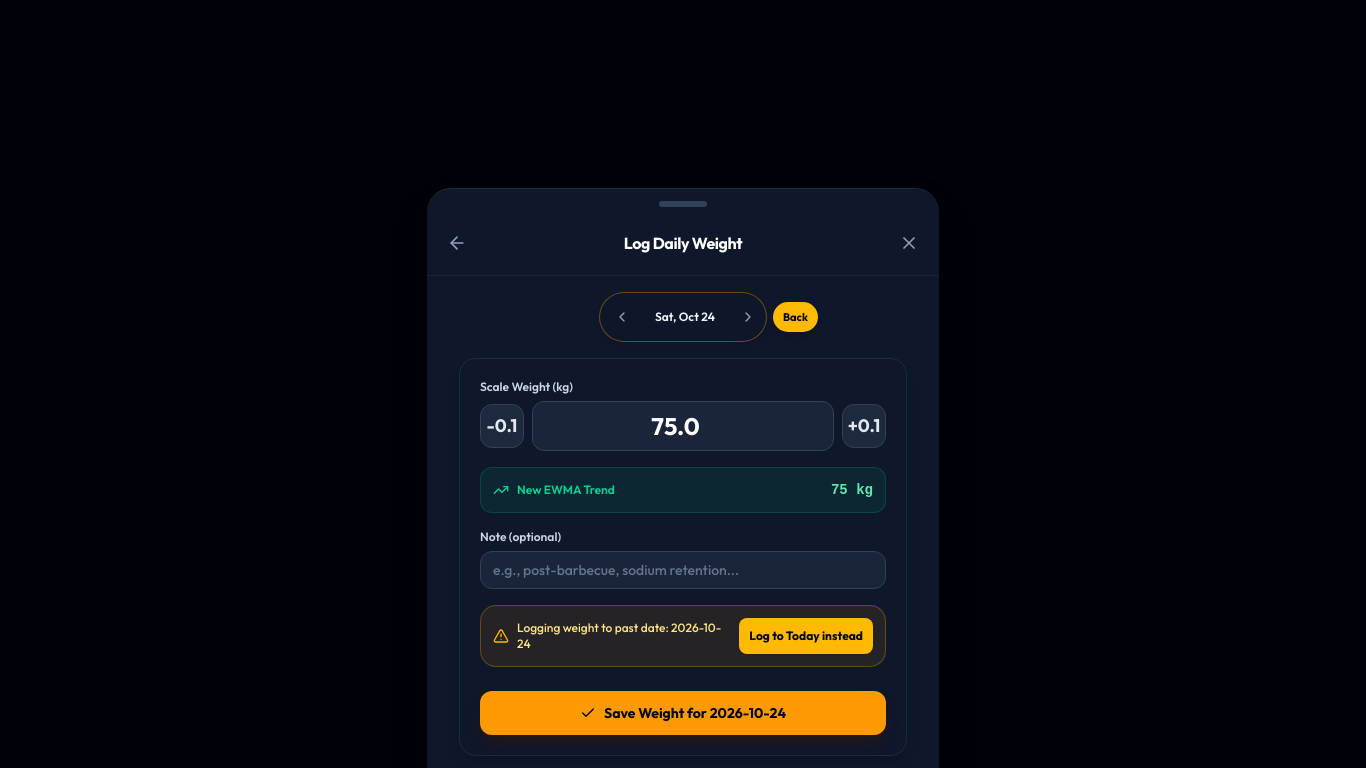
Test: Past Date Logging Guards & Today Pill UX › 4. WeightQuickLogModal Overwrite & Past Date Warning › clicking Log to Today instead switches weight modal date to today and clears warning
Expected: the element with test id "banner-past-weight-warning" is shown, [480, 605, 886, 667]
What coordinates should you click on to do the following:
click the button with test id "btn-switch-weight-today"
I would click on:
 (806, 636)
Its box is [739, 618, 873, 654].
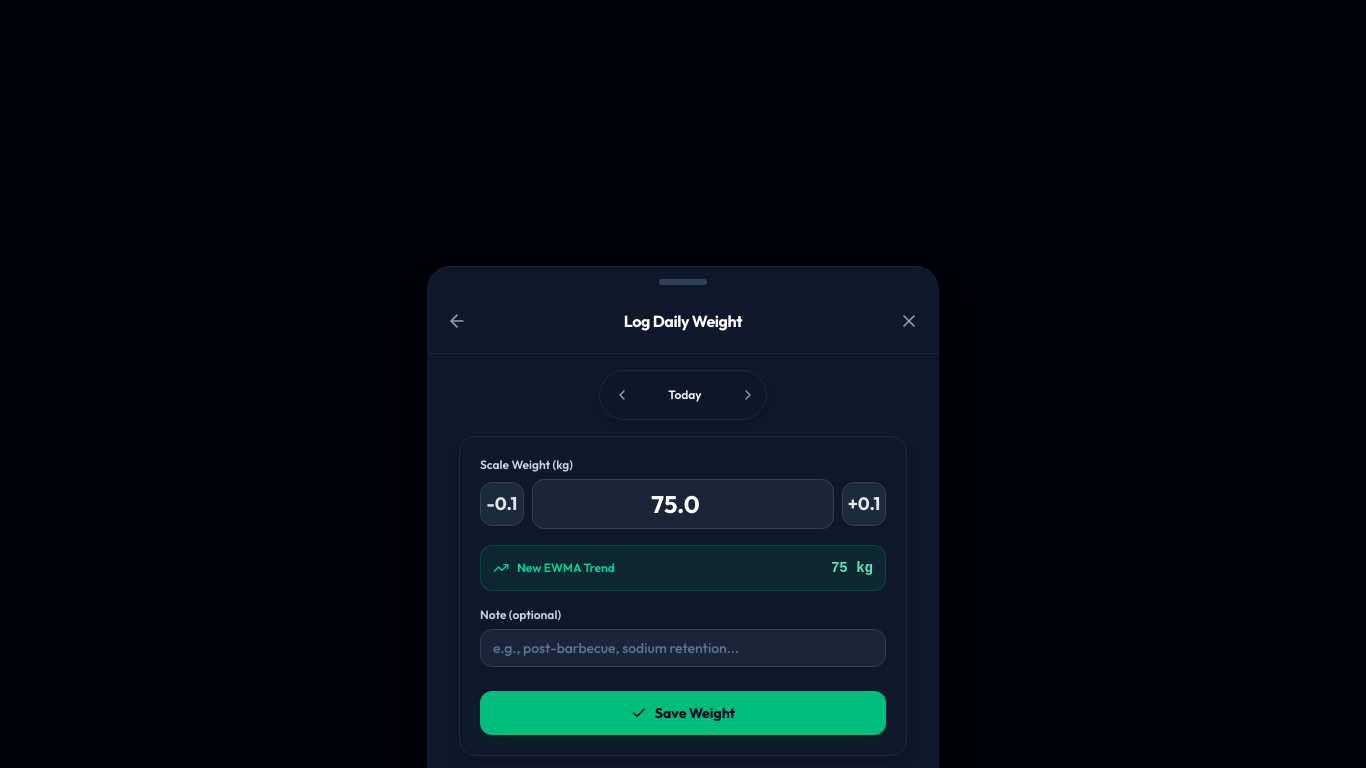
Expected: the element with test id "banner-past-weight-warning" is gone
Expected: the button with test id "btn-save-weight" reads "Save Weight", [480, 691, 886, 735]
